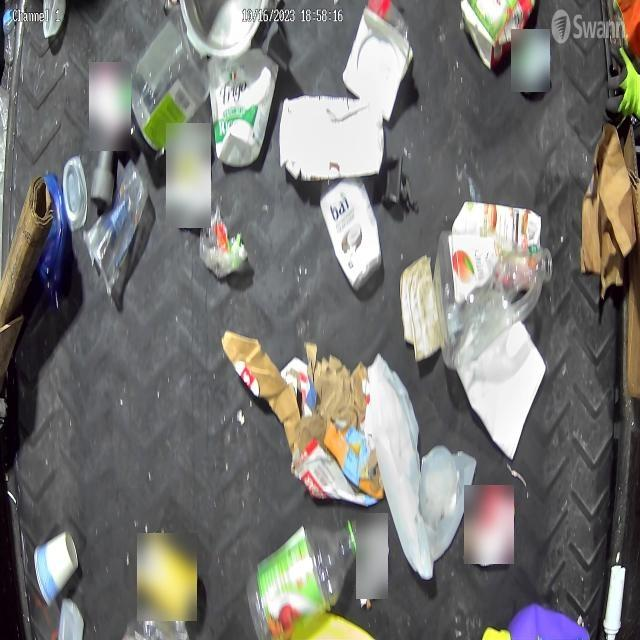milk_jug: (367, 352, 435, 580), (278, 94, 384, 180)
non_white_jug: (434, 231, 552, 369), (462, 0, 536, 70), (452, 199, 542, 250), (38, 172, 68, 310), (482, 603, 590, 640)
plastic_bottle: (246, 518, 362, 640), (3, 0, 16, 62)
